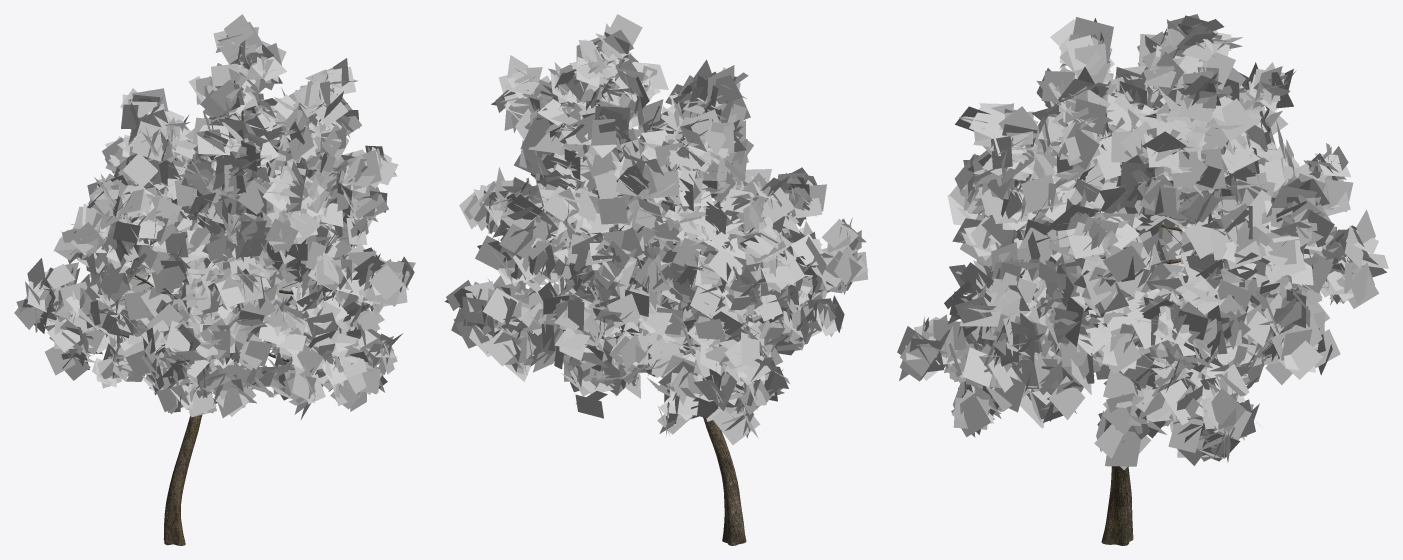
The model's file is SM_Tree_Wetland_013.FBX.
The picture shows the model from 3 angles, left to right: view 1: azimuth 30°, elevation 25°; view 2: azimuth 150°, elevation 25°; view 3: azimuth 270°, elevation 25°; orthographic projection. The views are drawn at different scales.
Parts seen in each view (by area): view 1: SM_Tree_Wetland_11_LOD0; view 2: SM_Tree_Wetland_11_LOD0; view 3: SM_Tree_Wetland_11_LOD0.
Boxes of the visible parts, x1=… form: SM_Tree_Wetland_11_LOD0: x1=14, y1=14, x2=415, y2=545; SM_Tree_Wetland_11_LOD0: x1=444, y1=14, x2=868, y2=545; SM_Tree_Wetland_11_LOD0: x1=897, y1=14, x2=1388, y2=545.
Size of what is drawn, in the model's own units: 265 by 283 by 372.
